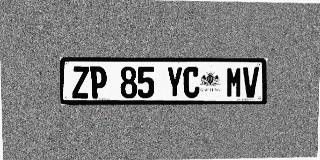5: (138, 66, 154, 98)
8: (120, 66, 137, 98)
C: (183, 67, 200, 98)
M: (226, 67, 242, 98)
P: (90, 66, 107, 98)
V: (243, 67, 259, 98)
Y: (166, 67, 183, 98)
Z: (72, 66, 89, 98)
